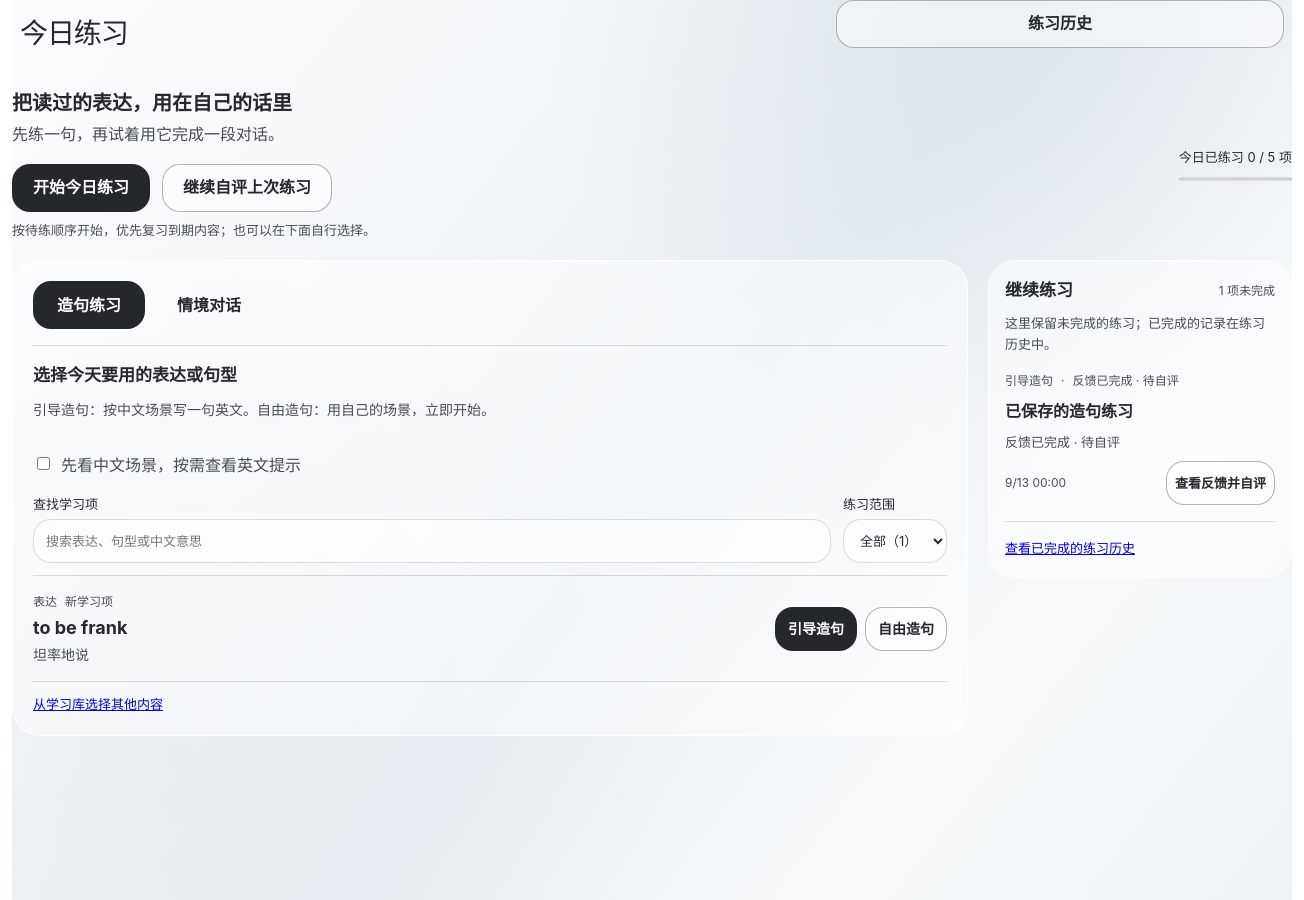
shows one ready point, saved answer history, and a rewrite prefill without advancing a rating
Click the button "查看反馈并自评".
click(1220, 483)  # box [1166,461,1275,505]
(page scrolled)
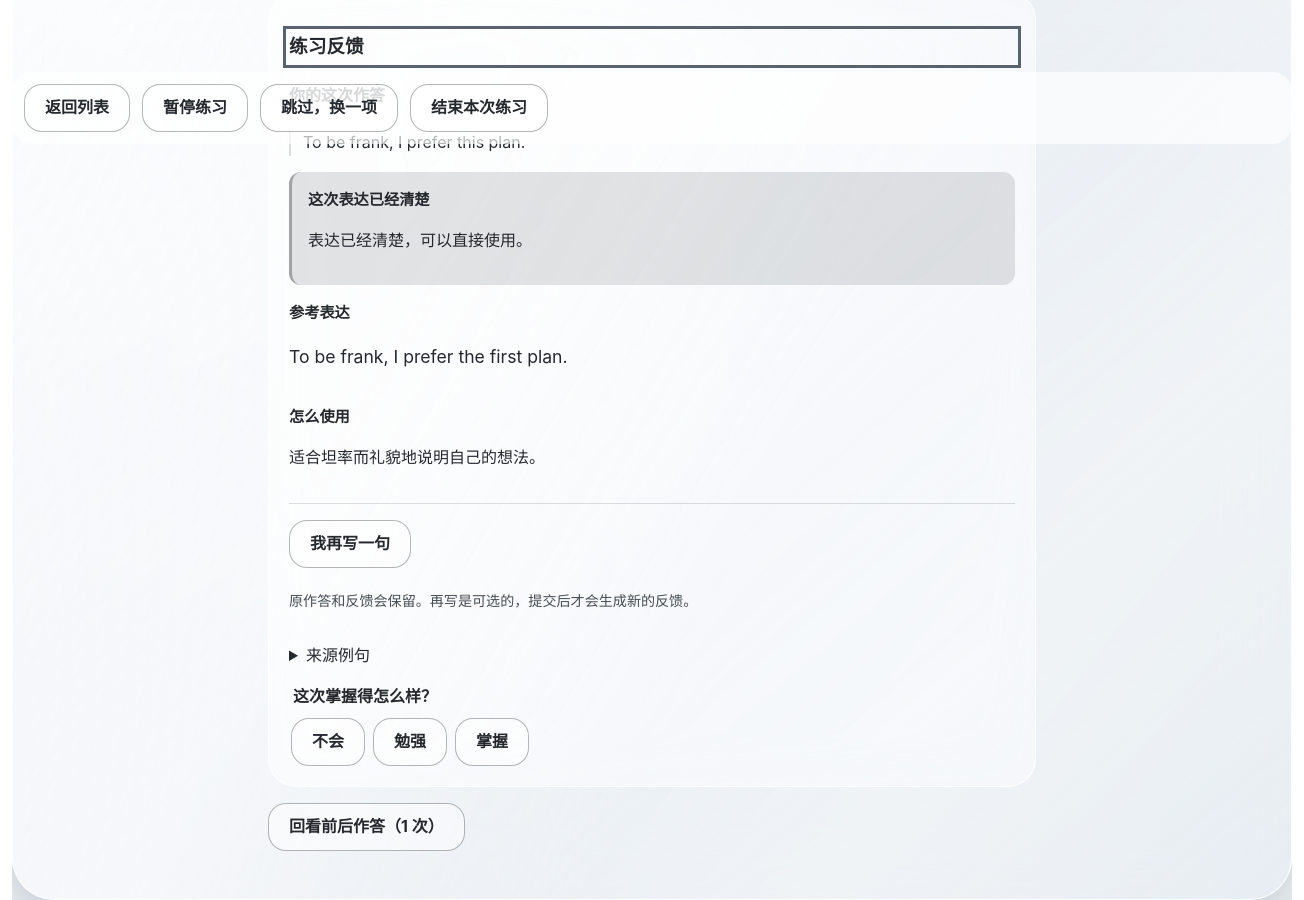
Expected: the text "表达已经清楚" is shown, [308,190,430,208]
Expected: the element that starts with "这次表达已经清楚" is shown, [289,172,1015,487]
Click the button "我再写一句".
click(350, 544)  # box [289,520,411,568]
(page scrolled)
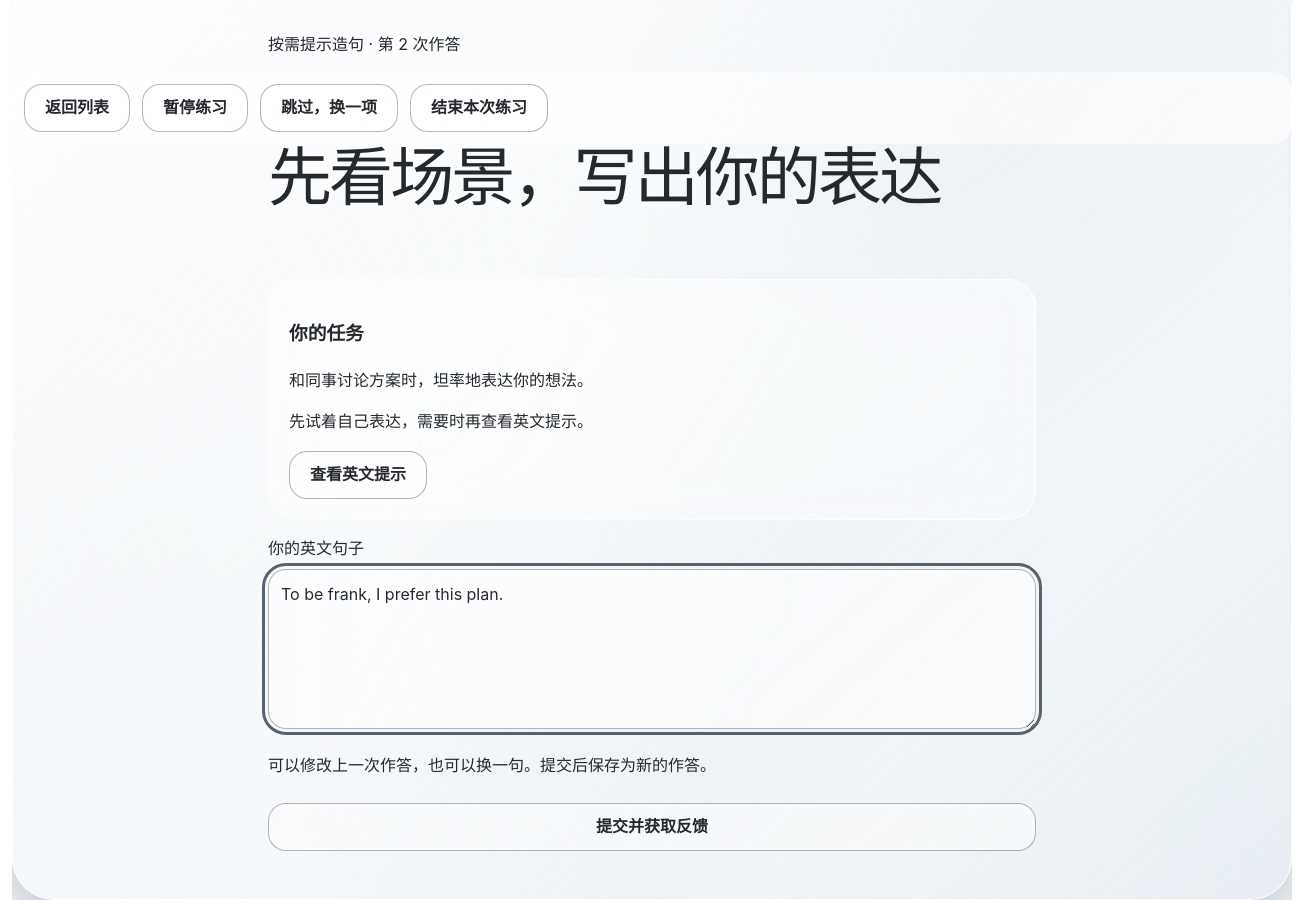
Expected: the text box named "answer" holds "To be frank, I prefer this plan.", [268,569,1036,729]
